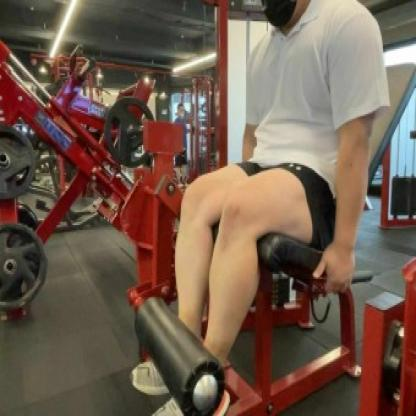leg extension: (118, 0, 387, 416)
